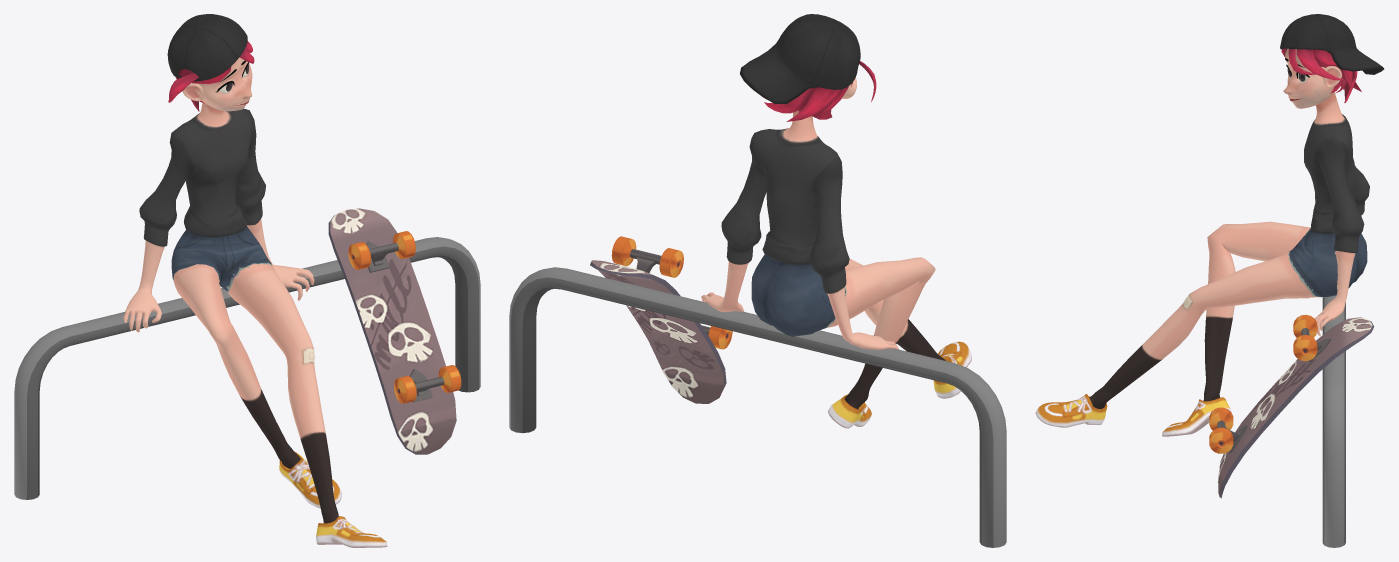
The model's file is skater.glb.
3 views of the same model, side by side, from view 1: azimuth 30°, elevation 25°; view 2: azimuth 150°, elevation 25°; view 3: azimuth 270°, elevation 25° (orthographic). The views are drawn at different scales.
Visible parts, largest first — view 1: skater.001, board, Skate_Ramp_1.001; view 2: skater.001, Skate_Ramp_1.001, board; view 3: skater.001, board, Skate_Ramp_1.001.
Boxes of the visible parts, box(x1,y1,x2,y2) form: skater.001: box(123, 14, 387, 547); board: box(328, 208, 461, 454); Skate_Ramp_1.001: box(14, 237, 480, 499); skater.001: box(701, 14, 971, 428); Skate_Ramp_1.001: box(509, 267, 1006, 547); board: box(590, 236, 732, 403); skater.001: box(1035, 14, 1384, 436); board: box(1209, 315, 1374, 498); Skate_Ramp_1.001: box(1322, 295, 1345, 547).
Size of the model in its own units: 9.18 by 8.36 by 6.51.
3 materials, 3 textured.
